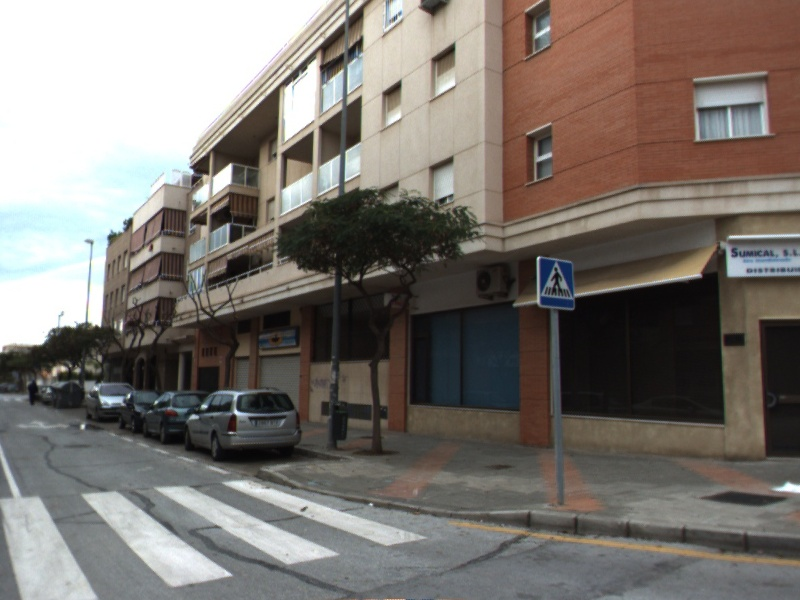STRAIGHT_LEFT_RIGHT: (13, 416, 73, 432)
